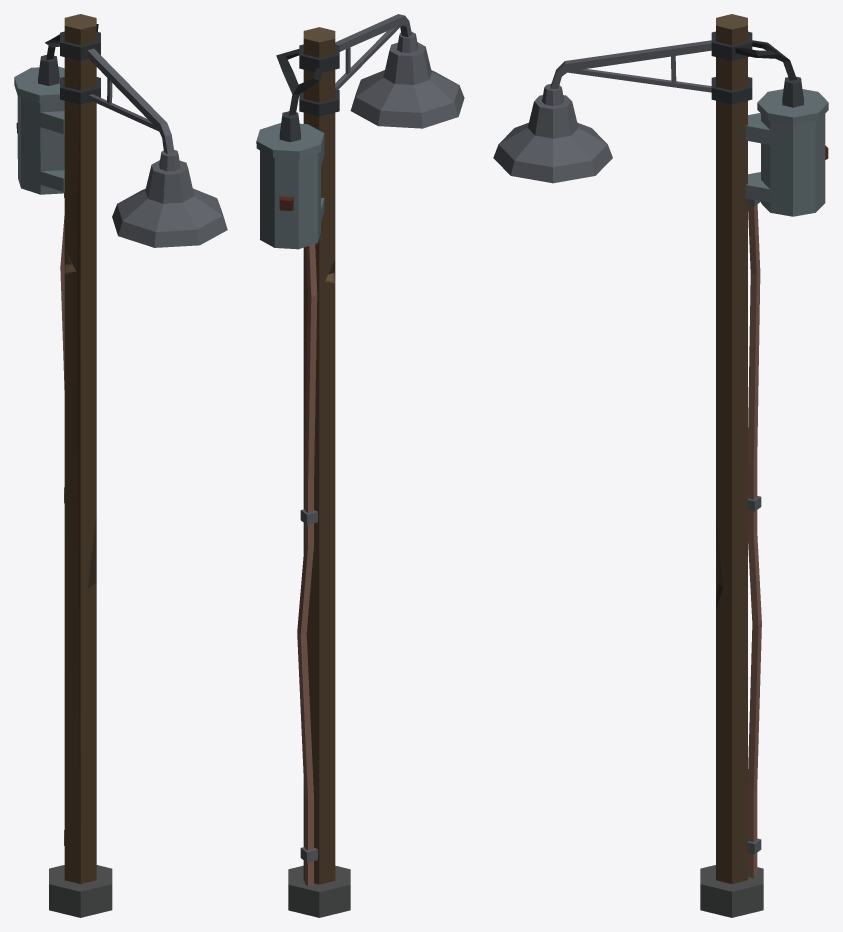
The model's file is SM_Prop_Lamp_Post_02.glb.
3 views of the same model, side by side, from view 1: azimuth 30°, elevation 25°; view 2: azimuth 150°, elevation 25°; view 3: azimuth 270°, elevation 25° (orthographic).
Parts seen in each view (by area): view 1: SM_Prop_Lamp_Post_02; view 2: SM_Prop_Lamp_Post_02; view 3: SM_Prop_Lamp_Post_02.
Boxes of the visible parts, <box> form: SM_Prop_Lamp_Post_02: <box>14,14,227,917</box>; SM_Prop_Lamp_Post_02: <box>256,14,464,917</box>; SM_Prop_Lamp_Post_02: <box>493,14,828,917</box>.
Bounding box in the file's own units: 67.75 × 549 × 190.
Materials: 1 (1 with a texture image).
